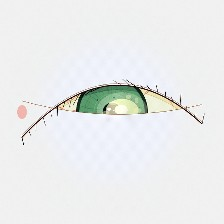corneal_ulcer: (96, 89, 149, 132)
